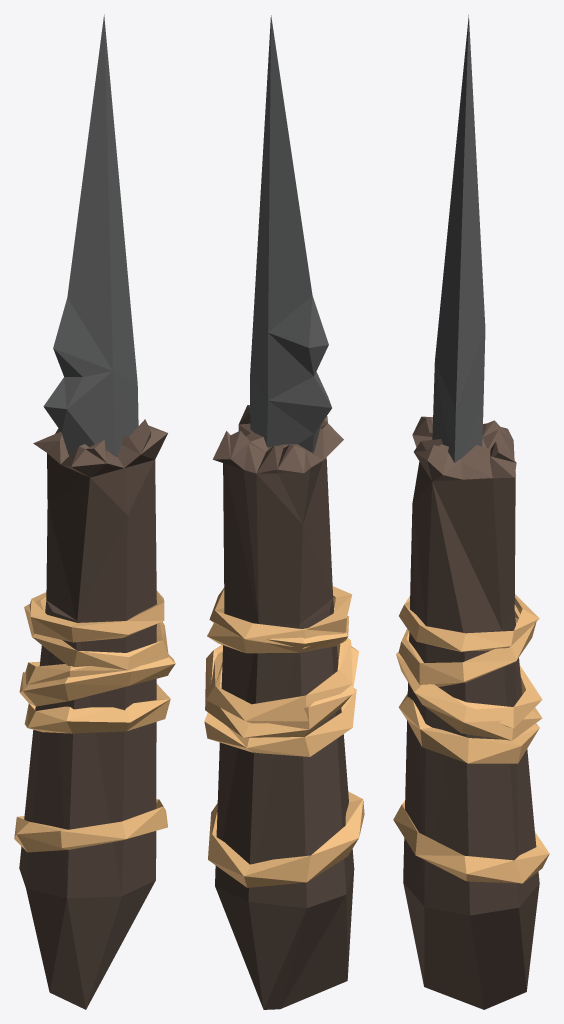
File: Tool_003.001.fbx
3 views of the same model, side by side, from view 1: azimuth 30°, elevation 25°; view 2: azimuth 150°, elevation 25°; view 3: azimuth 270°, elevation 25° (orthographic). The views are drawn at different scales.
Parts seen in each view (by area): view 1: Tool_003.001; view 2: Tool_003.001; view 3: Tool_003.001.
Boxes of the visible parts, <box> form: Tool_003.001: <box>14,14,175,1009</box>; Tool_003.001: <box>204,15,364,1009</box>; Tool_003.001: <box>393,15,549,1009</box>.
Bounding box in the file's own units: 0.0432 × 0.262 × 0.037.
